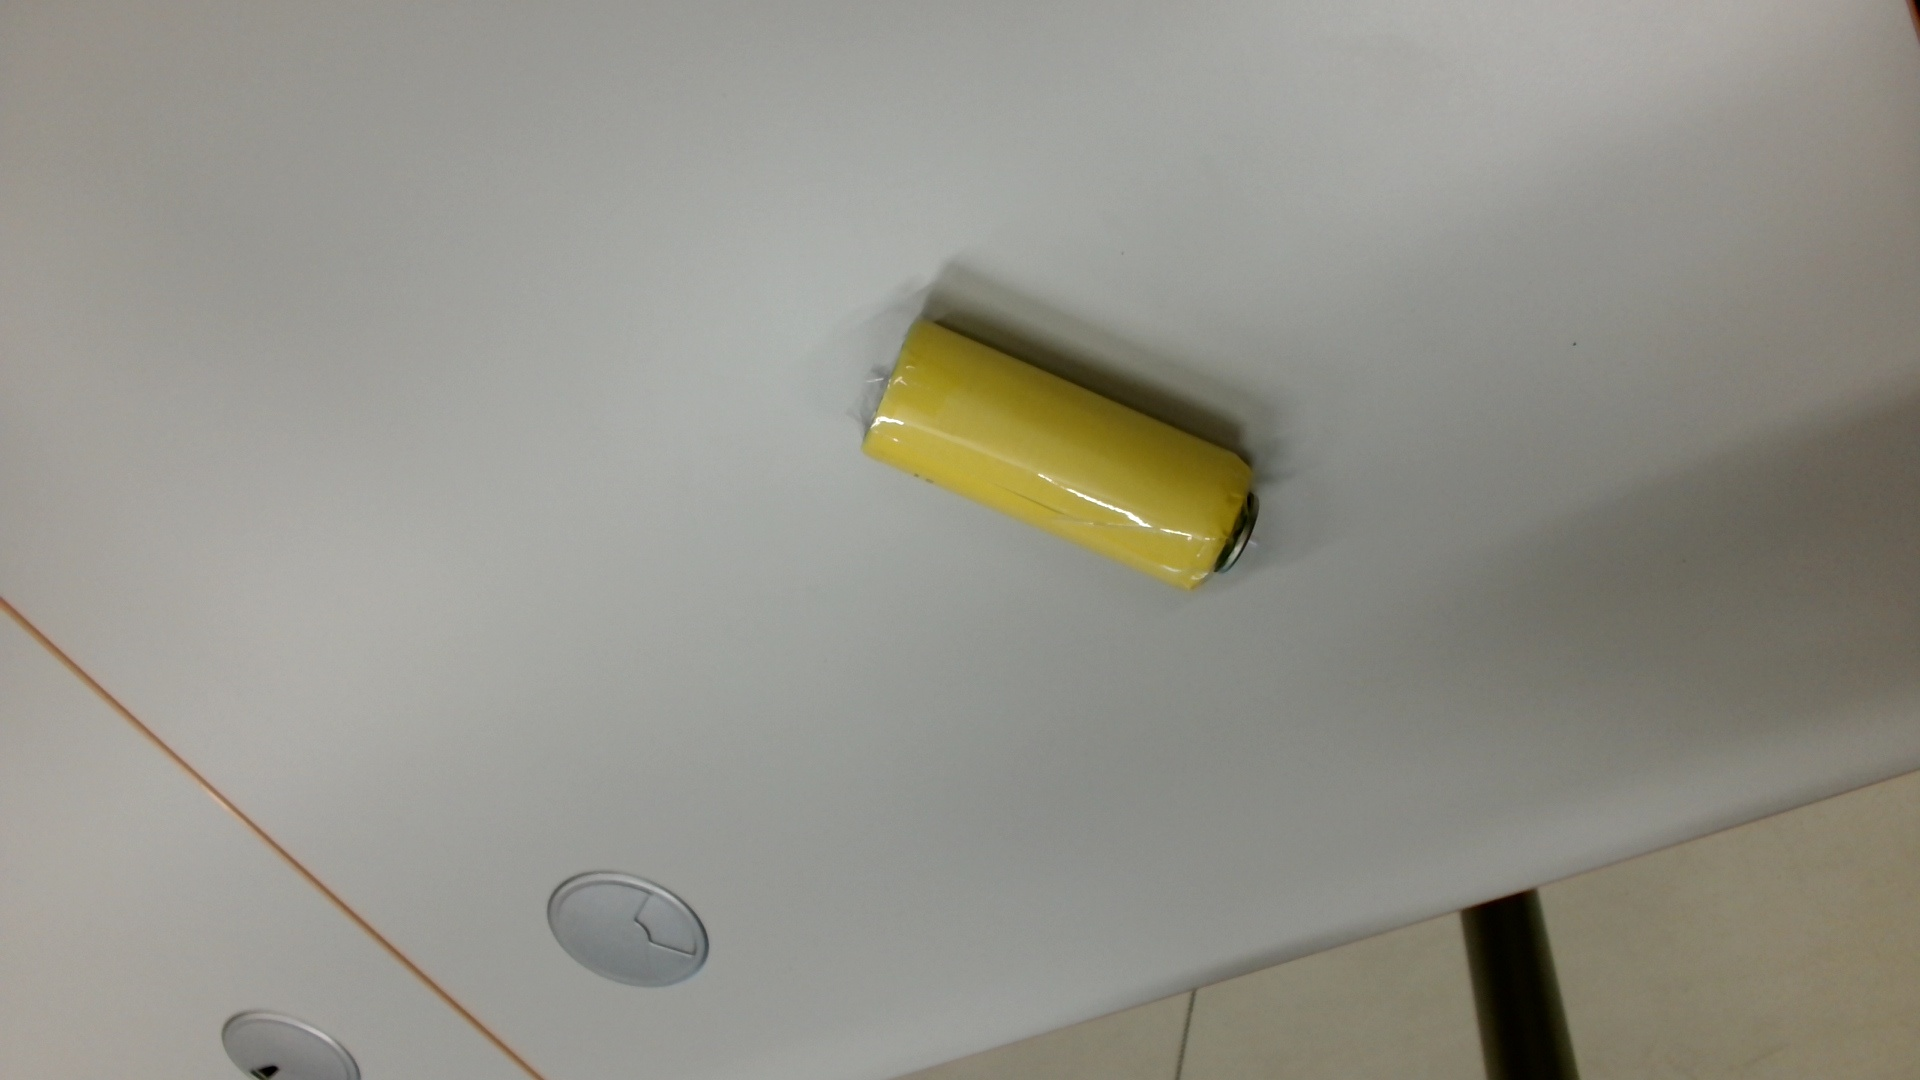Cylinder: (845, 305, 1288, 605)
